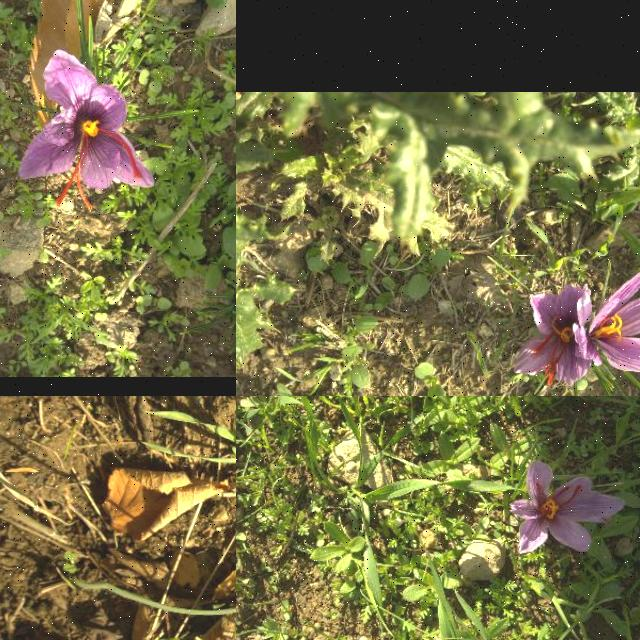flower: (18, 48, 154, 212), (509, 461, 626, 554)
overlap: (512, 264, 640, 387)
